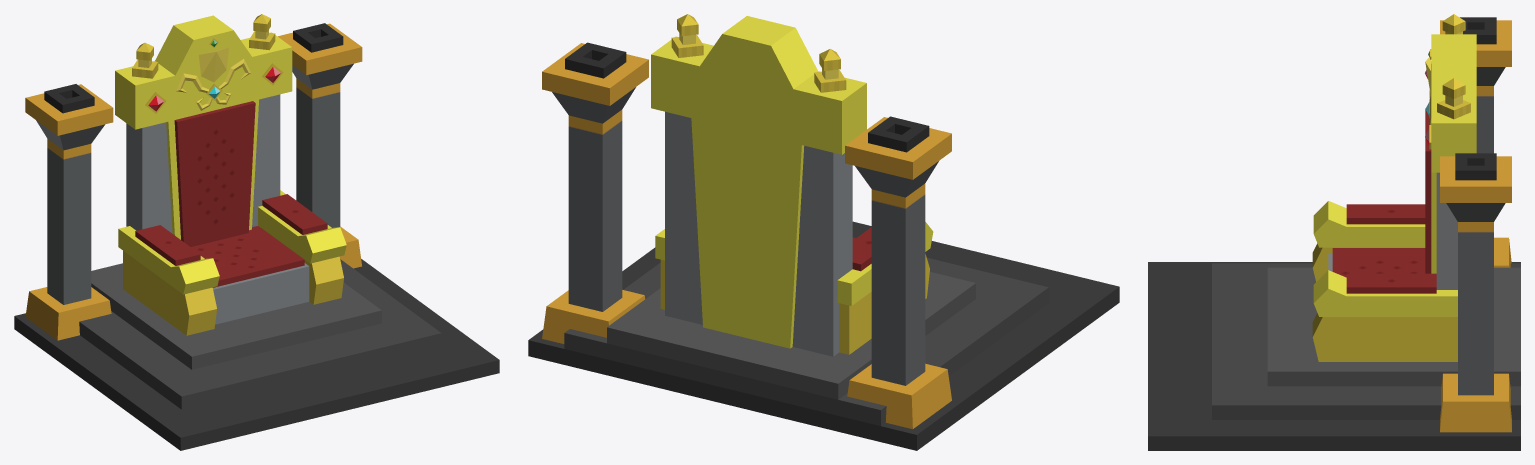
File: Throne Chair 01.fbx
3 renders of one model, left to right at view 1: azimuth 30°, elevation 25°; view 2: azimuth 150°, elevation 25°; view 3: azimuth 270°, elevation 25°, orthographic. The views are drawn at different scales.
Parts seen in each view (by area): view 1: Throne_Chair_01; view 2: Throne_Chair_01; view 3: Throne_Chair_01.
Boxes of the visible parts, x1,y1,x2,y2 form: Throne_Chair_01: (14, 14, 499, 450); Throne_Chair_01: (528, 14, 1119, 450); Throne_Chair_01: (1148, 14, 1520, 450).
Bounding box in the file's own units: 343 × 292 × 310.
